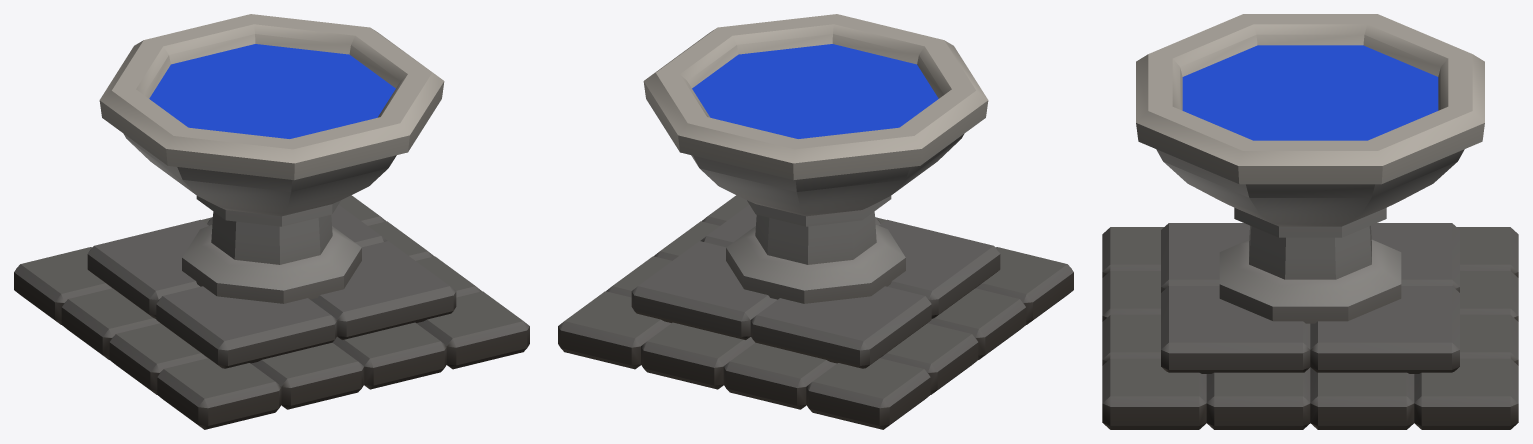
Rendered from fountain_font_mana.glb.
3 views of the same model, side by side, from view 1: azimuth 30°, elevation 25°; view 2: azimuth 150°, elevation 25°; view 3: azimuth 270°, elevation 25° (orthographic). The views are drawn at different scales.
Visible parts, largest first — view 1: Item, Liquid; view 2: Item, Liquid; view 3: Item, Liquid.
Part boxes in pixels (x1,y1,x2,y2): Item: (14,14,529,429); Liquid: (149,44,395,138); Item: (558,14,1073,429); Liquid: (692,44,938,138); Item: (1102,14,1518,429); Liquid: (1182,45,1438,140).
Size of the model in its own units: 1.56 by 1.09 by 1.56.
Materials: 2 (2 with a texture image).
